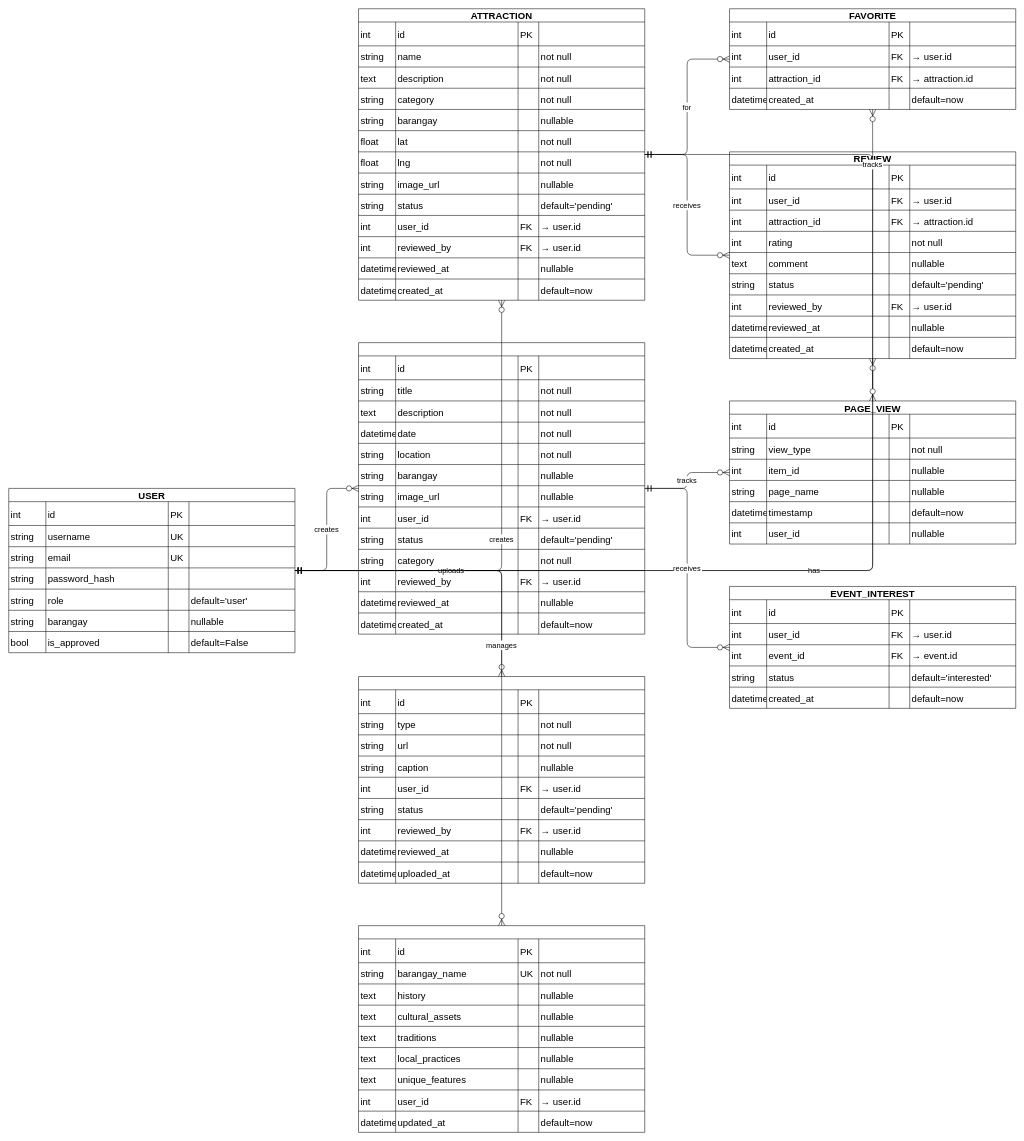
Image size: 1024x1141. Some labels were removed from this diagram. Here are the shapes that lost their labels. From the top down, the box of each, then its label:
(358, 342, 645, 634): EVENT
(358, 676, 645, 883): GALLERY_ITEM
(358, 925, 645, 1132): BARANGAY_INFO
